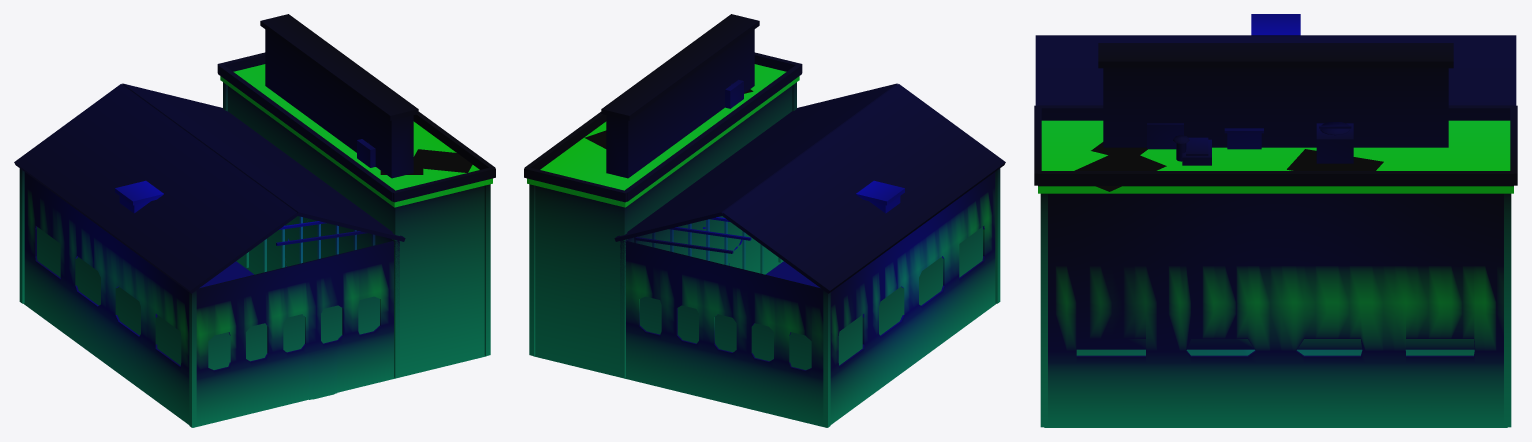
The model's file is heavyindustrial_damaged.glb.
3 views of the same model, side by side, from view 1: azimuth 30°, elevation 25°; view 2: azimuth 150°, elevation 25°; view 3: azimuth 270°, elevation 25° (orthographic). The views are drawn at different scales.
Parts seen in each view (by area): view 1: lod0; view 2: lod0; view 3: lod0.
Boxes of the visible parts, bbox=[...] form: lod0: bbox=[14, 14, 495, 427]; lod0: bbox=[524, 14, 1005, 427]; lod0: bbox=[1034, 14, 1517, 427].
Size of what is drawn, in the model's own units: 20.16 by 14.95 by 19.6.
